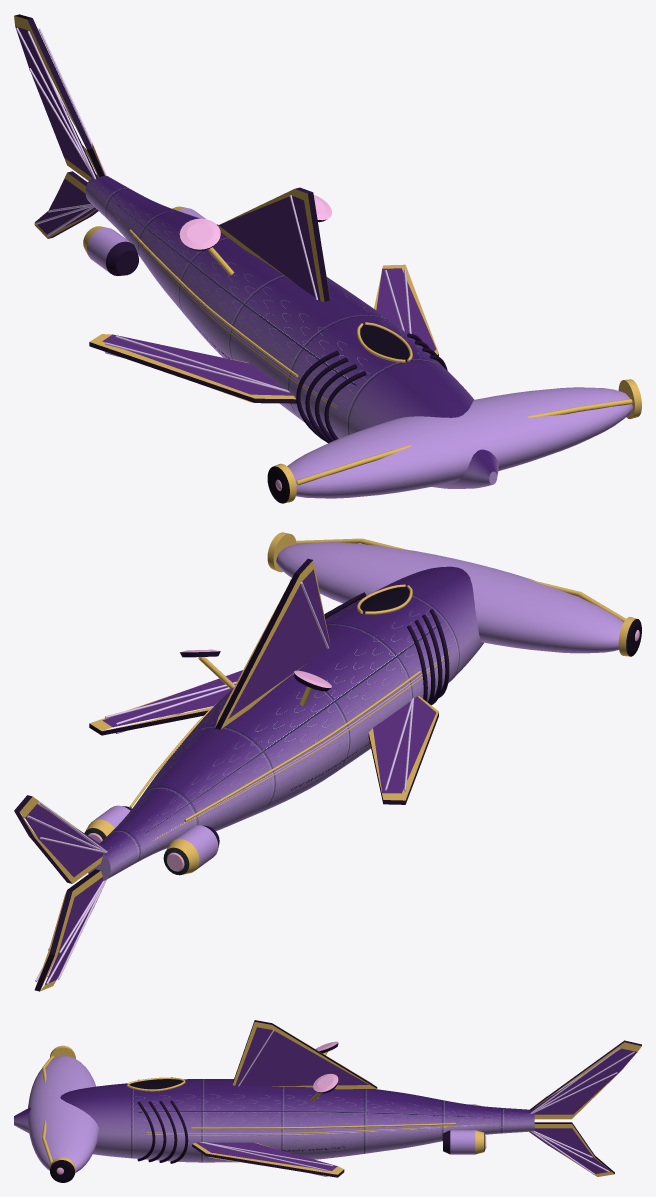
3 renders of one model, top to bottom at view 1: azimuth 30°, elevation 25°; view 2: azimuth 150°, elevation 25°; view 3: azimuth 270°, elevation 25°, orthographic. The views are drawn at different scales.
Visible parts, largest first — view 1: hammerhead_hull; view 2: hammerhead_hull; view 3: hammerhead_hull.
Boxes of the visible parts, <box> form: hammerhead_hull: <box>14,14,641,503</box>; hammerhead_hull: <box>14,532,641,991</box>; hammerhead_hull: <box>14,1020,641,1182</box>.
Size of the model in its own units: 119 by 74.23 by 272.
1 material, 1 textured.
